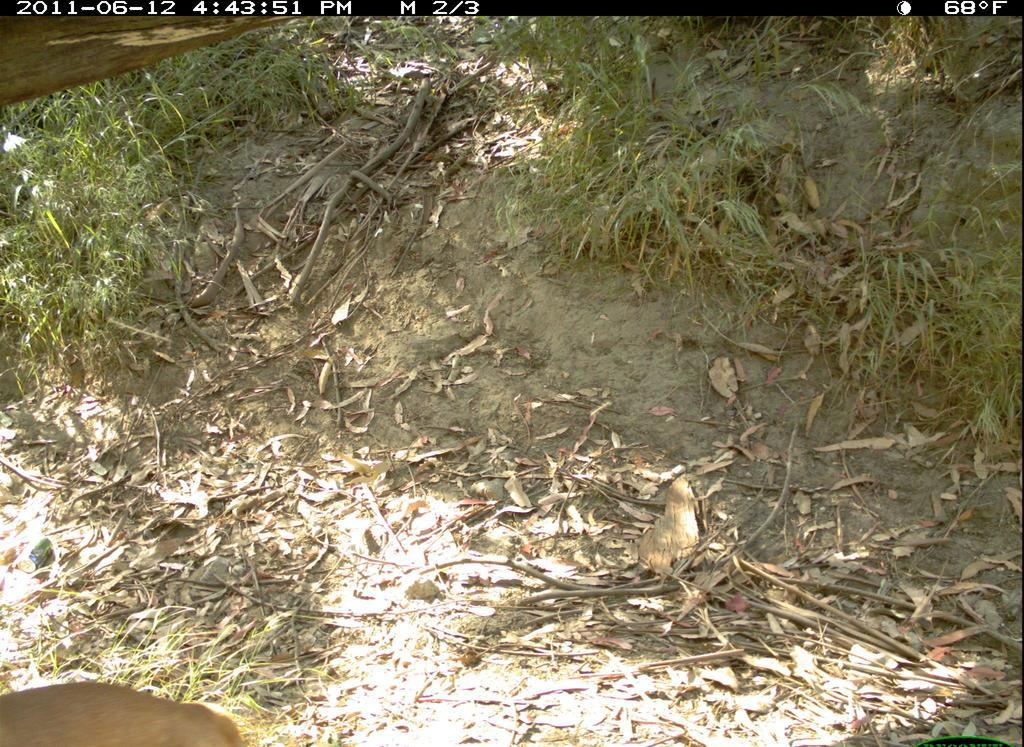dog: (6, 679, 259, 747)
